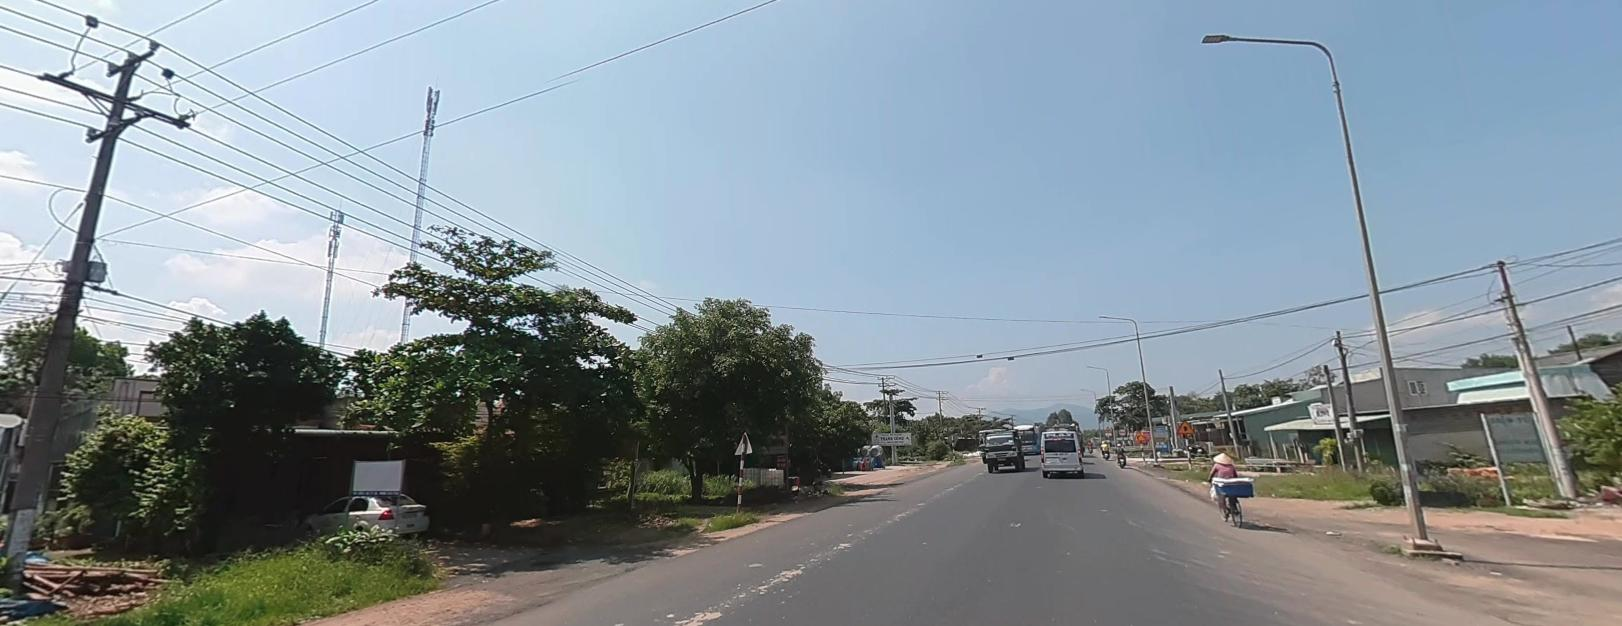Nguy hiem: (1176, 419, 1195, 433), (1134, 430, 1146, 440)
